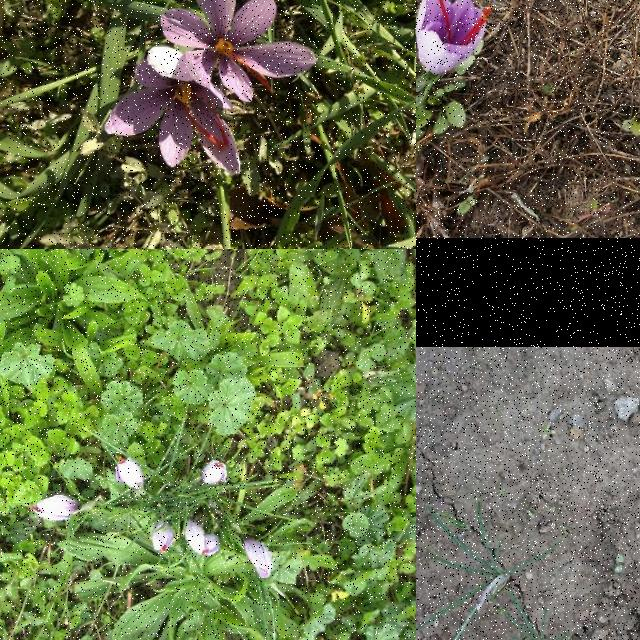flower: (104, 61, 242, 176), (161, 0, 315, 101), (416, 0, 496, 75), (28, 494, 82, 522), (243, 536, 273, 580), (115, 457, 145, 491), (152, 520, 175, 554), (202, 460, 228, 486)
overlap: (184, 519, 222, 557)
